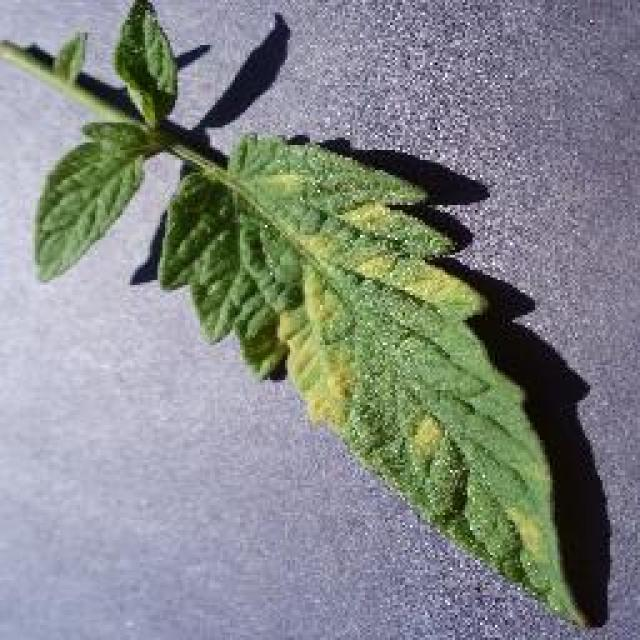Tomato___Leaf_Mold: (0, 0, 585, 620), (240, 212, 300, 312)
